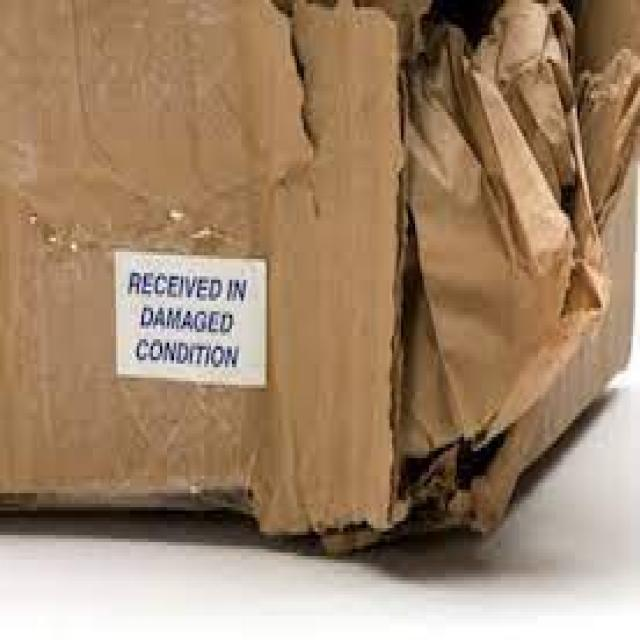hole: (393, 421, 519, 517)
